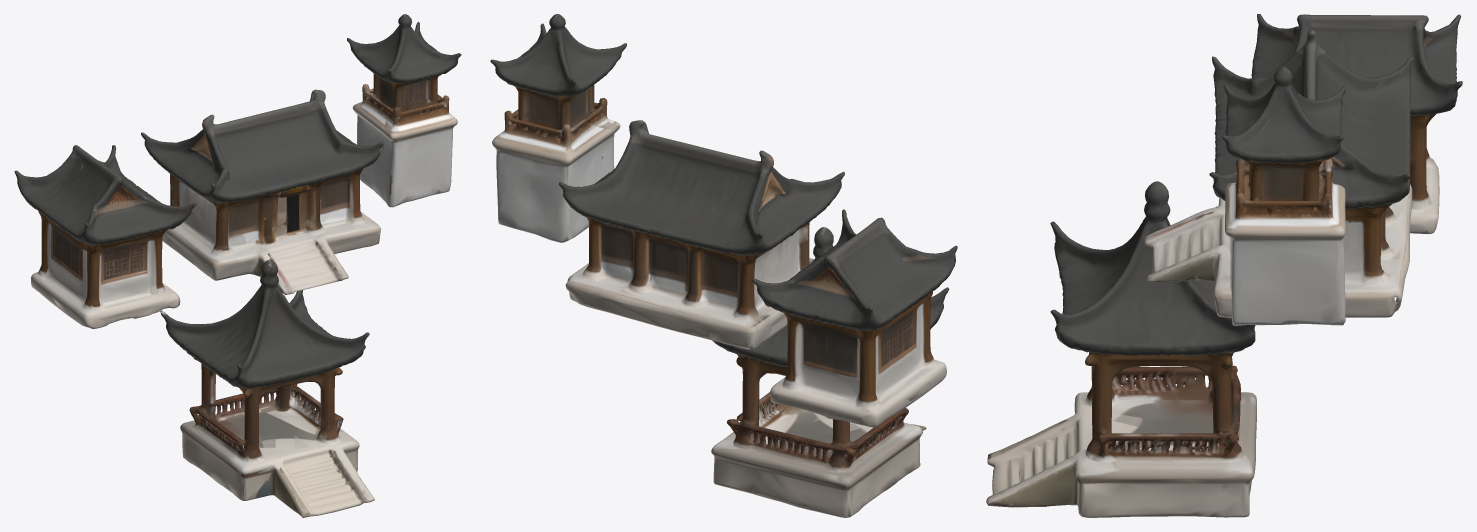
The picture shows the model from 3 angles, left to right: view 1: azimuth 30°, elevation 25°; view 2: azimuth 150°, elevation 25°; view 3: azimuth 270°, elevation 25°; orthographic projection. The views are drawn at different scales.
Parts seen in each view (by area): view 1: material.001; view 2: material.001; view 3: material.001.
Boxes of the visible parts, bbox=[...] form: material.001: bbox=[14, 14, 461, 517]; material.001: bbox=[490, 14, 957, 517]; material.001: bbox=[986, 14, 1462, 517].
Bounding box in the file's own units: 0.8847 × 0.8808 × 0.7083.
1 material, 1 textured.
